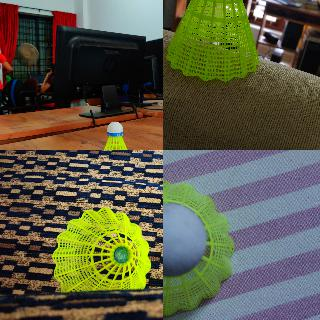shuttlecock: (163, 179, 234, 315), (52, 207, 150, 291), (165, 0, 259, 82), (96, 121, 136, 149)
